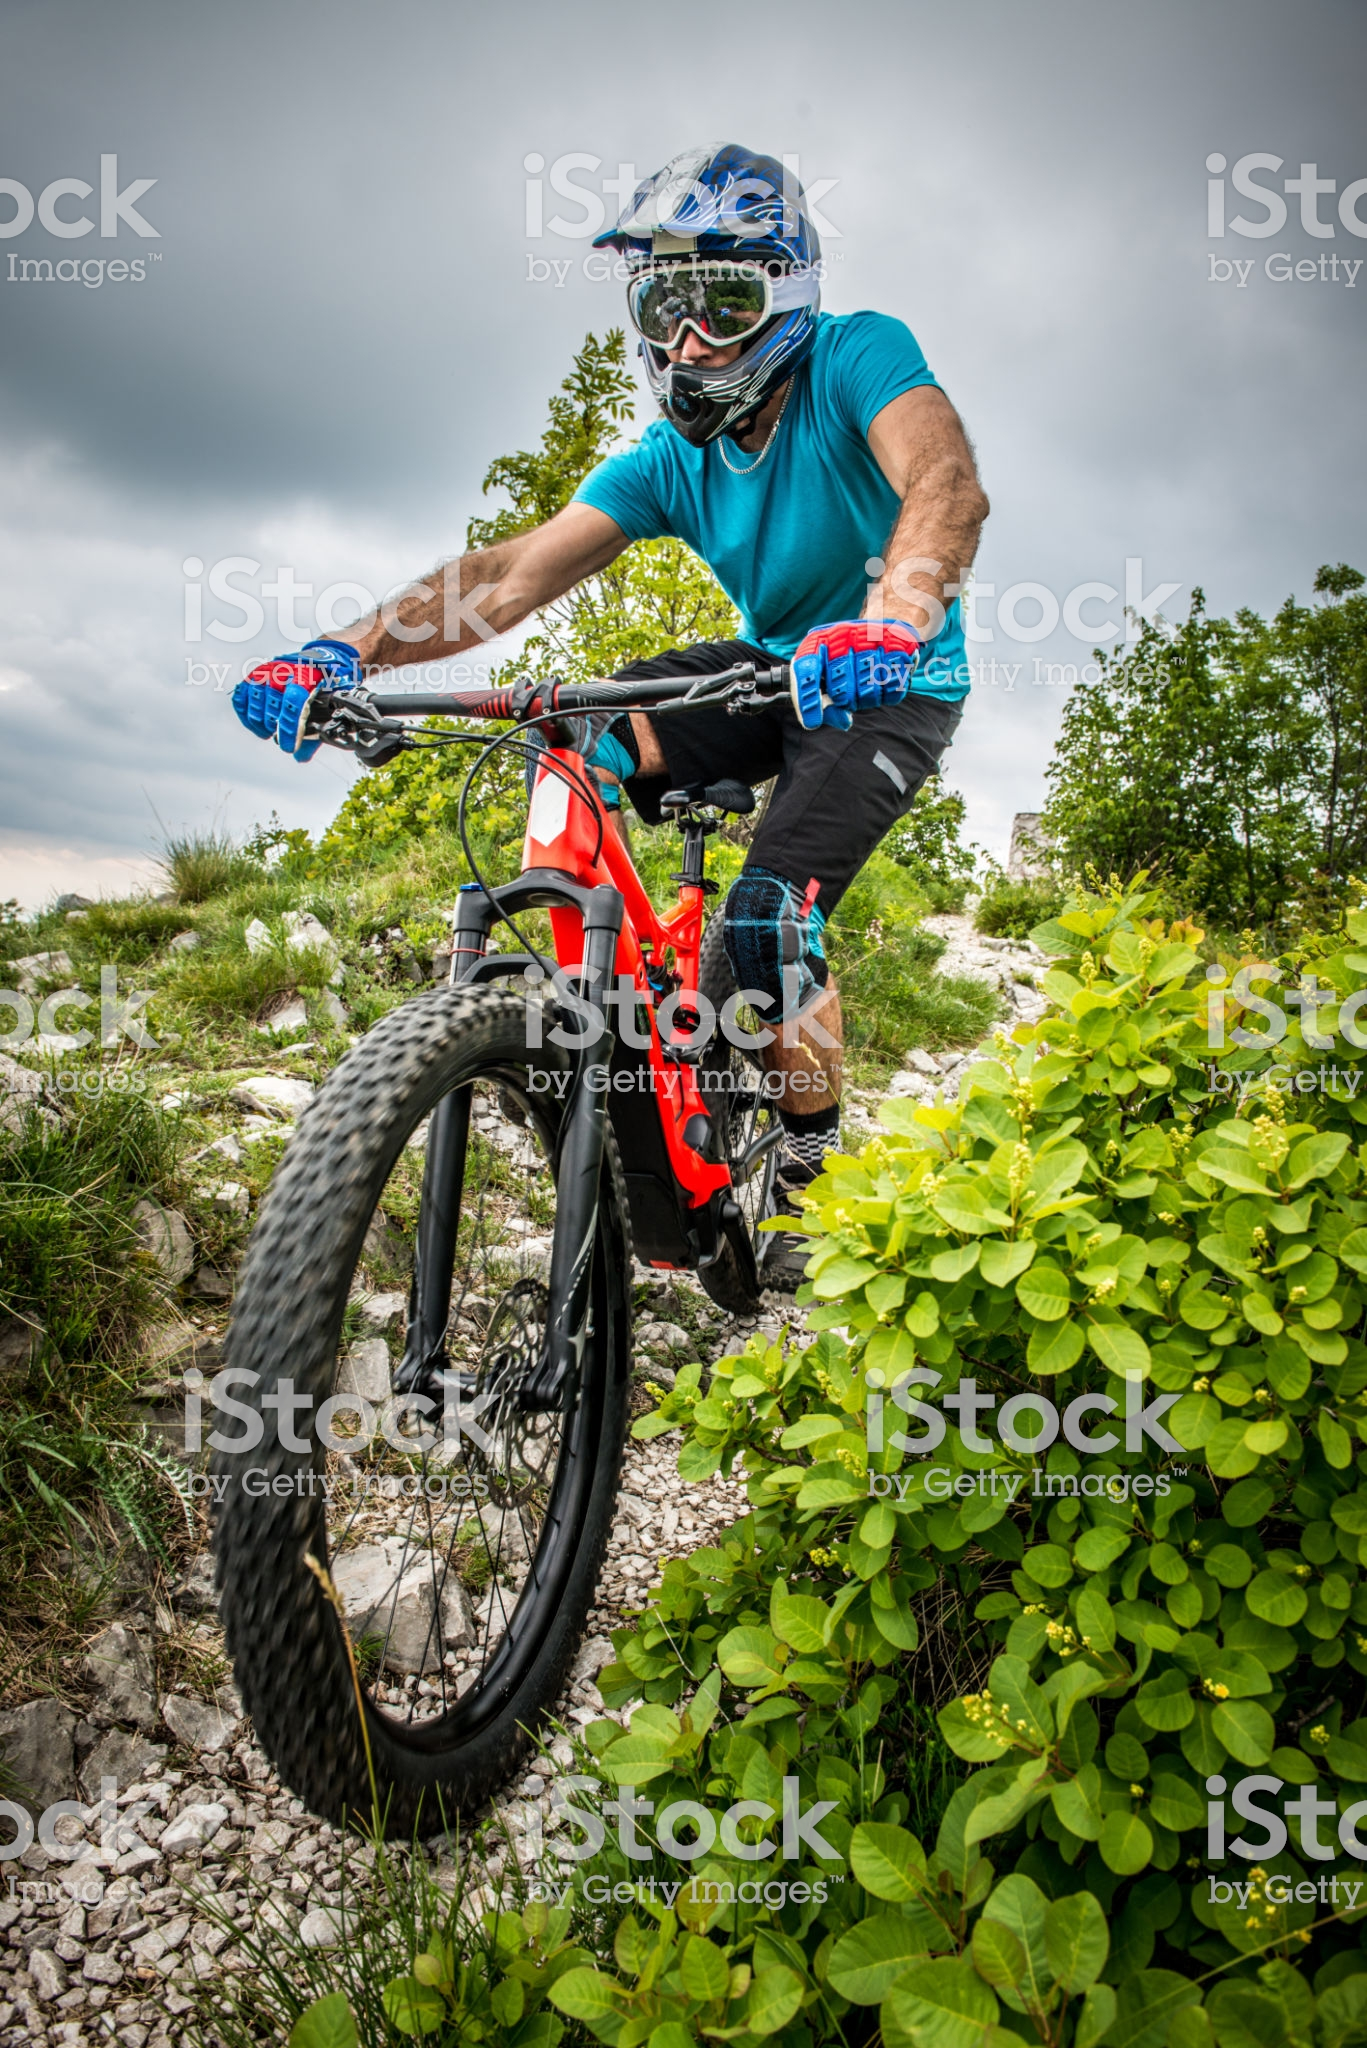helmet: (609, 128, 809, 444)
